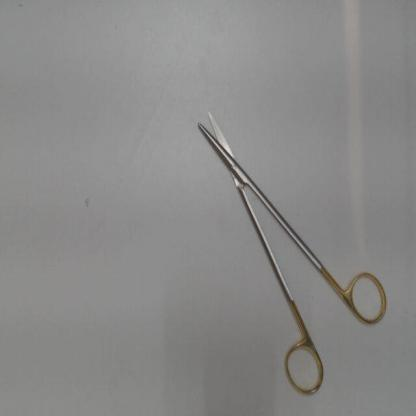7 Metzenbaum Scissors: (195, 108, 389, 400)
